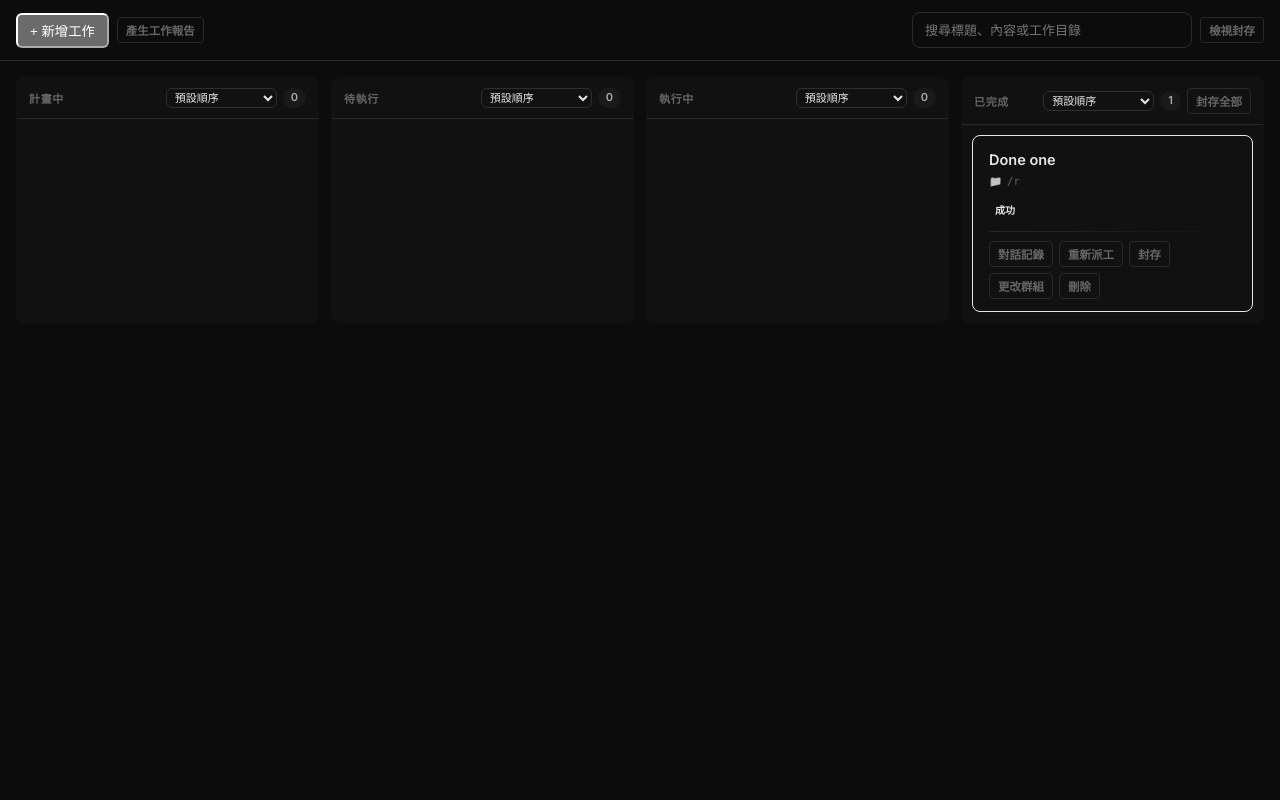
Test: ProjectBoard › conversation dialog shows the task's own instructions and the raw terminal output
The image size is (1280, 800).
What coordinates should you click on to do the following:
click the button "對話記錄"
I would click on:
 (1021, 254)
Its box is [989, 241, 1053, 267].
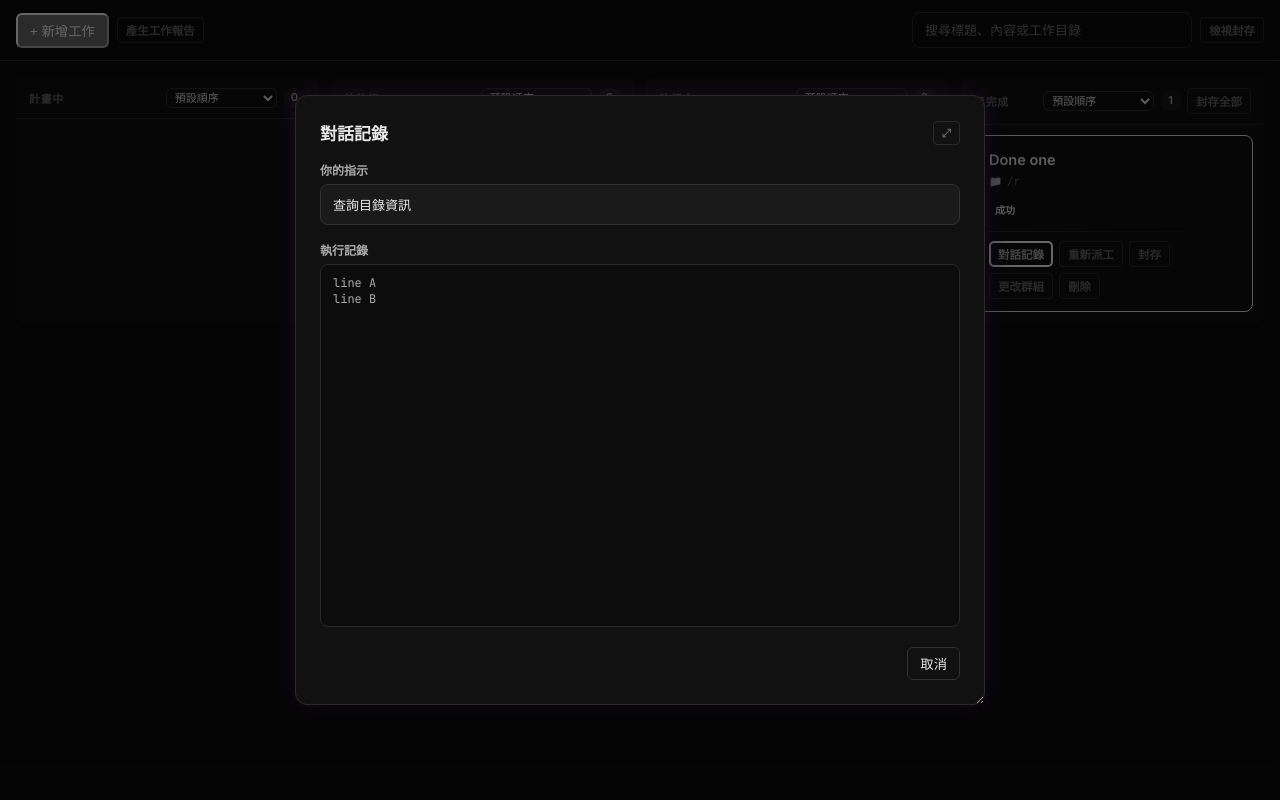
expect the text "查詢目錄資訊" is shown: met, box [320, 184, 960, 225]
expect the text "line A line B" is shown: met, box [320, 264, 960, 627]
